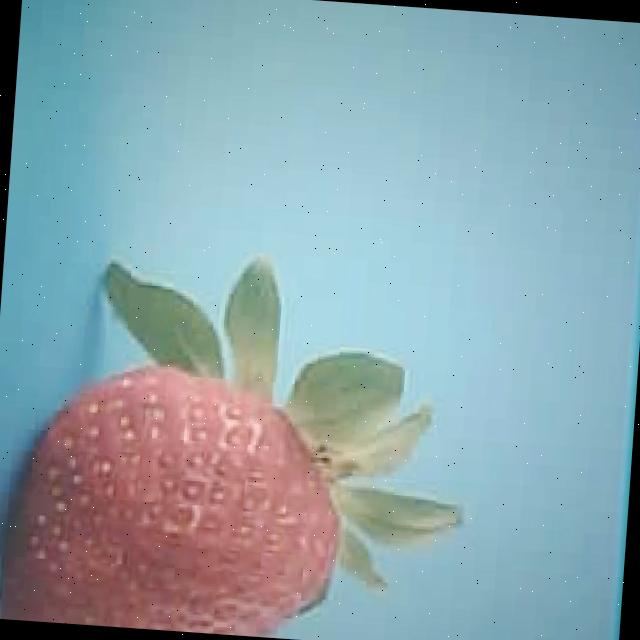strawberry: (0, 353, 357, 640)
